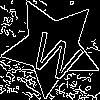W: (27, 22, 89, 84)
